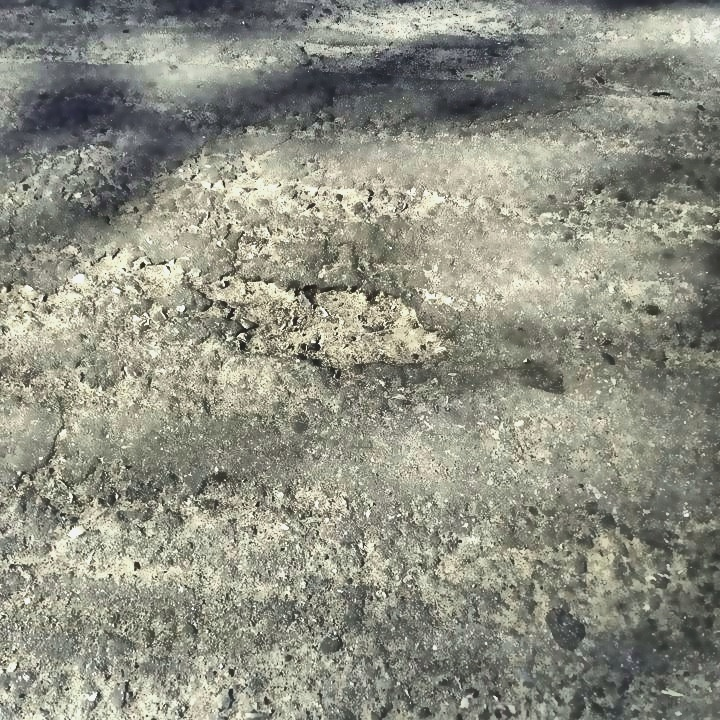pothole: (196, 271, 448, 377)
